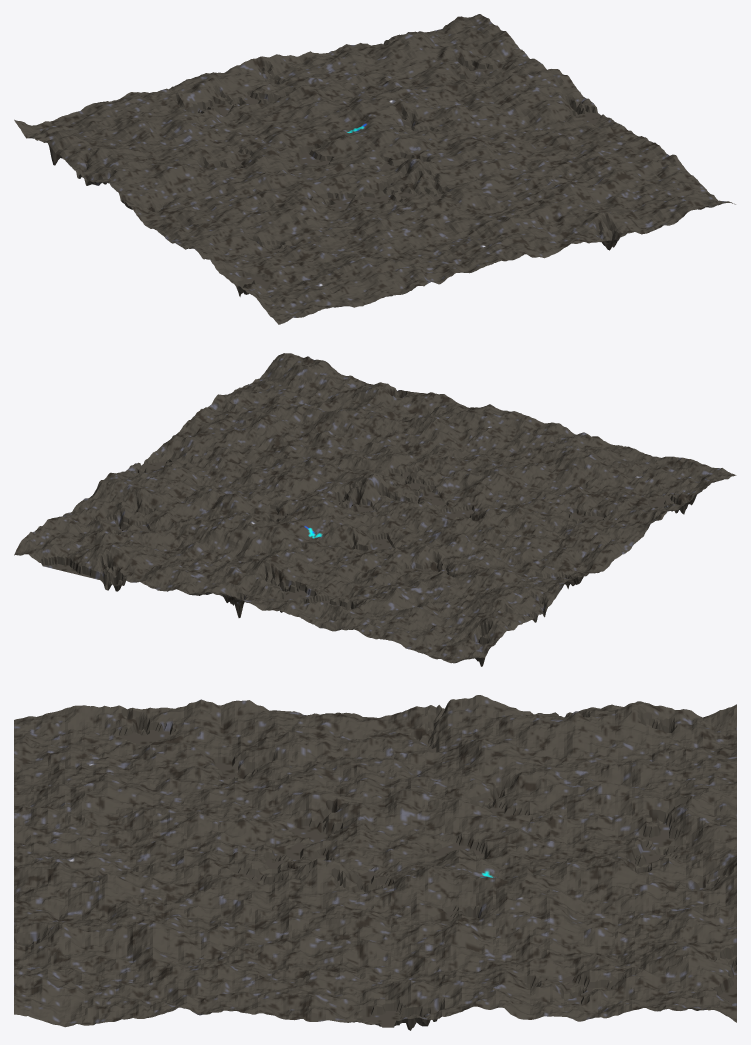
Rendered from terrain_Cat.obj.
3 renders of one model, top to bottom at view 1: azimuth 30°, elevation 25°; view 2: azimuth 150°, elevation 25°; view 3: azimuth 270°, elevation 25°, orthographic. The views are drawn at different scales.
Visible parts, largest first — view 1: Cat; view 2: Cat; view 3: Cat.
Boxes of the visible parts, x1,y1,x2,y2 form: Cat: (14,14,735,324); Cat: (14,353,736,666); Cat: (14,695,736,1030).
Bounding box in the file's own units: 255 × 24.16 × 255.
1 material, 1 textured.
